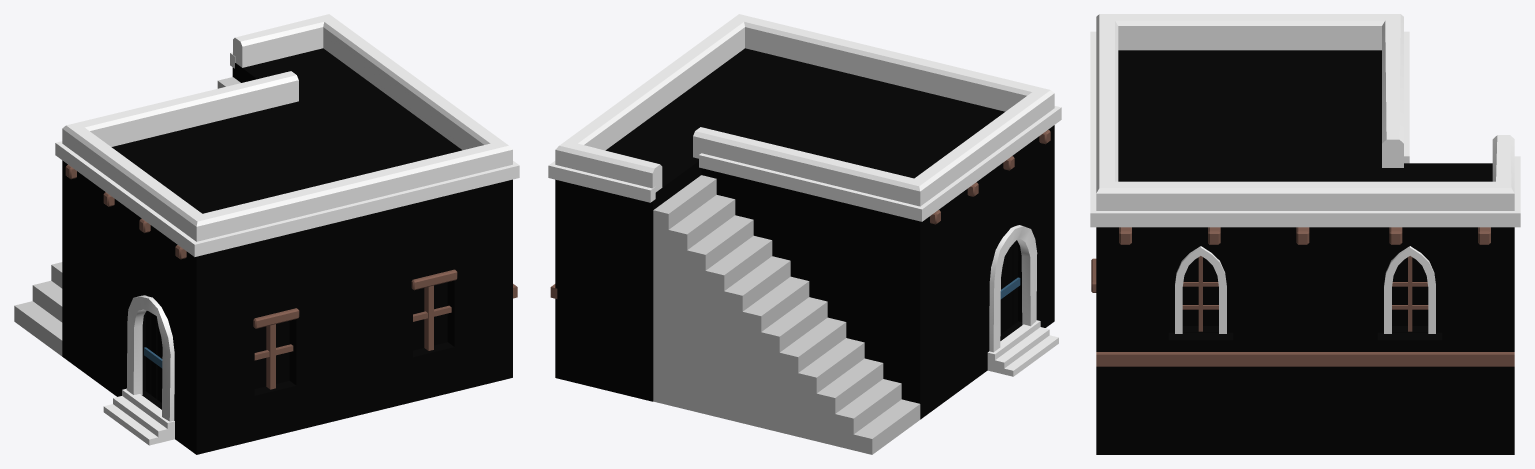
The model's file is civilian_house_31_e.FBX.
3 renders of one model, left to right at view 1: azimuth 30°, elevation 25°; view 2: azimuth 150°, elevation 25°; view 3: azimuth 270°, elevation 25°, orthographic. The views are drawn at different scales.
Visible parts, largest first — view 1: civilian_house_31_e_LOD0; view 2: civilian_house_31_e_LOD0; view 3: civilian_house_31_e_LOD0.
Boxes of the visible parts, left/top/right/bottom form: civilian_house_31_e_LOD0: left=14, top=14, right=519, bottom=454; civilian_house_31_e_LOD0: left=548, top=14, right=1061, bottom=454; civilian_house_31_e_LOD0: left=1090, top=14, right=1520, bottom=454.
Size of what is drawn, in the model's own units: 899 by 560 by 822.
